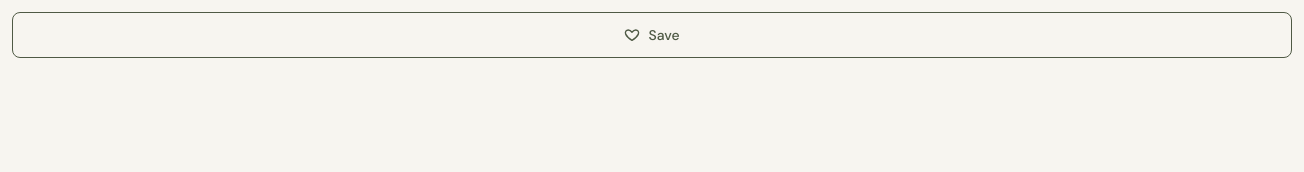
Save: any other failure shows the error and does not mark it saved
What coordinates should you click on to do the following:
click the button with aria-label "Save Warm Kitchen to shortlist"
I would click on:
 (652, 35)
Its box is top-left (12, 12), bottom-right (1292, 58).
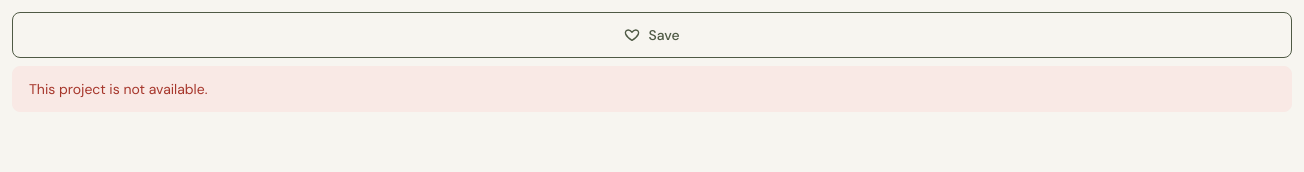
Result: the message reads "This project is not available." at top-left (29, 80), bottom-right (208, 98)
